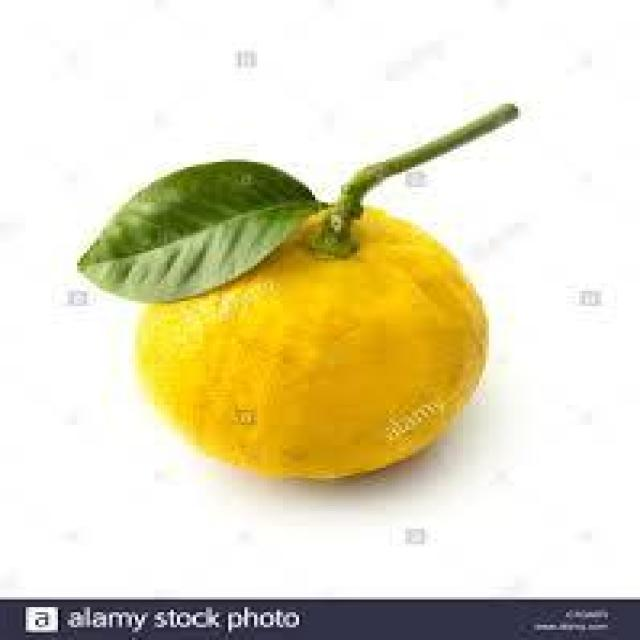organic: (80, 104, 518, 483)
